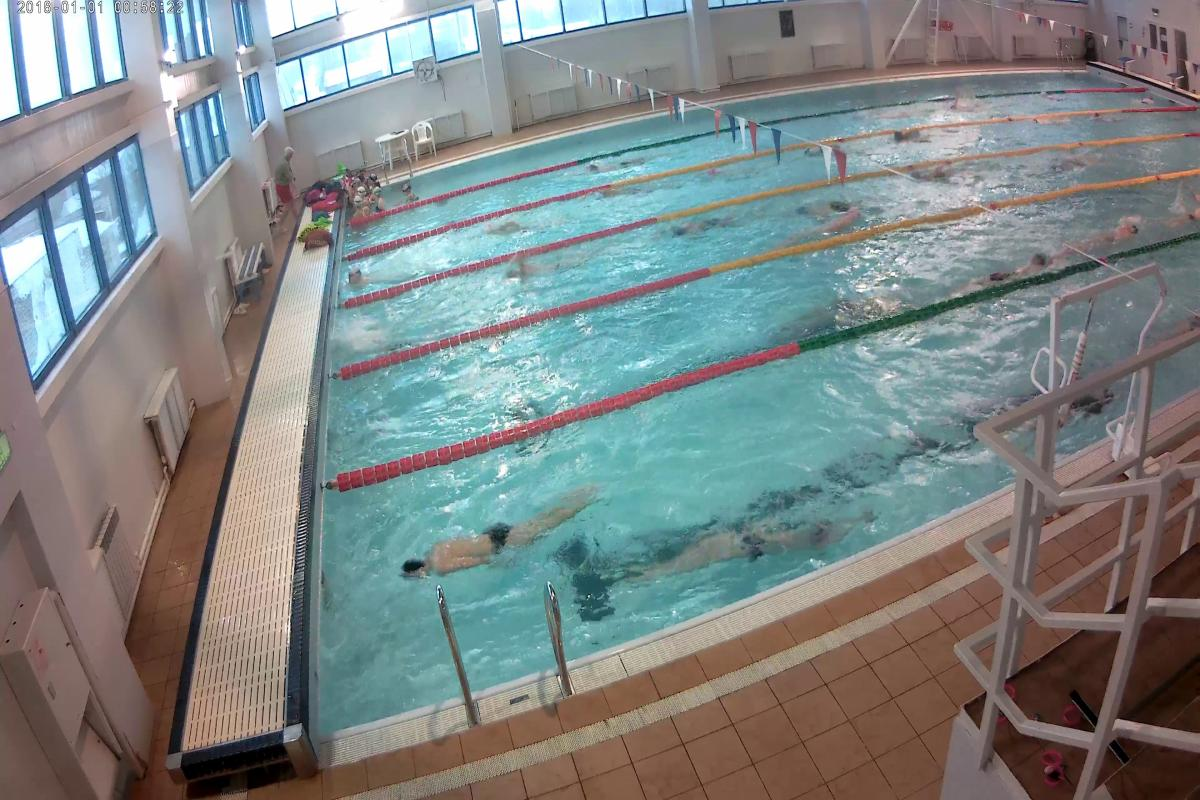swimmer: (402, 504, 584, 576), (666, 525, 839, 563), (986, 251, 1056, 280), (508, 254, 580, 276), (1091, 222, 1142, 251), (670, 213, 742, 230)
